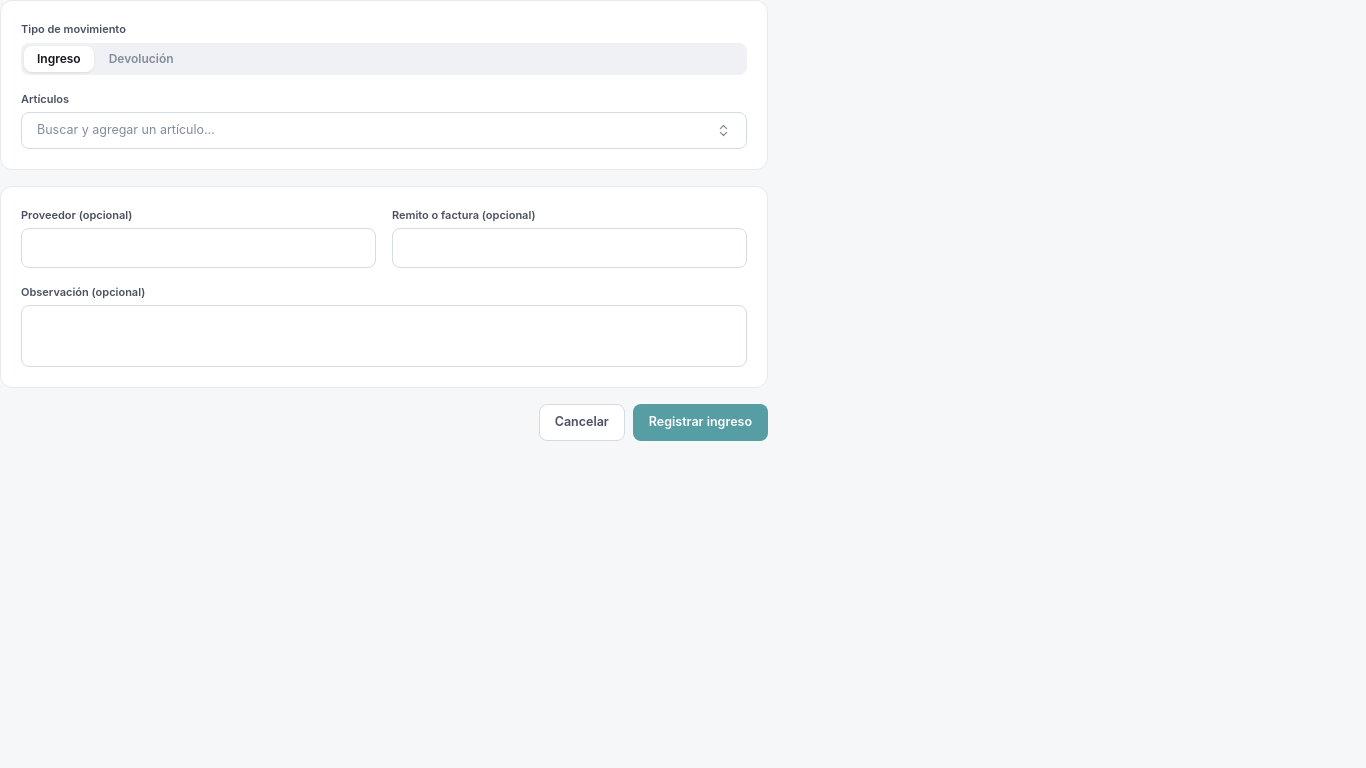
StockEntryScreen (IS-09, IS-23) › el buscador ofrece solo artículos activos y no repite los ya agregados
Click the dropdown labelled "agregar un artículo". click: x=126, y=130
box: [21,112,747,149]
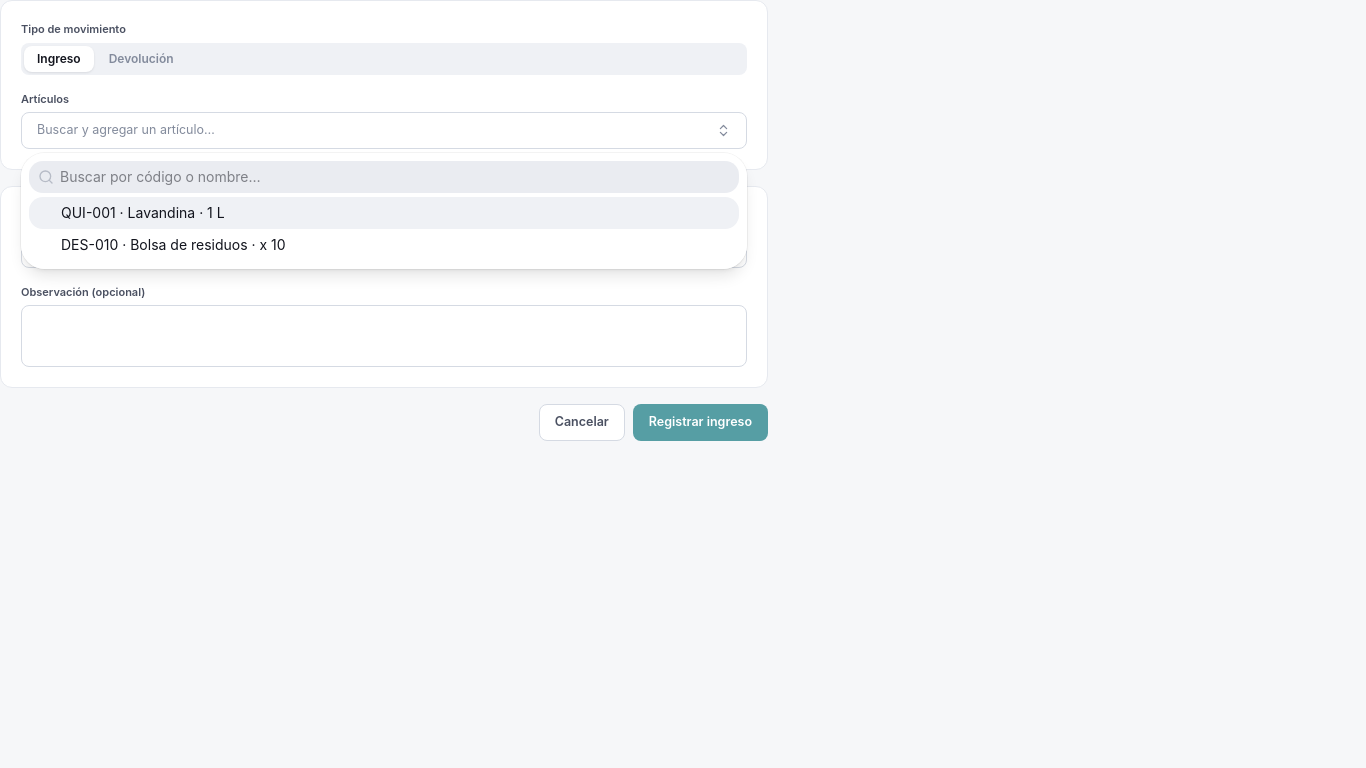
Check: the option "QUI-001 · Lavandina · 1 L" is shown, box [29,197,739,229]
